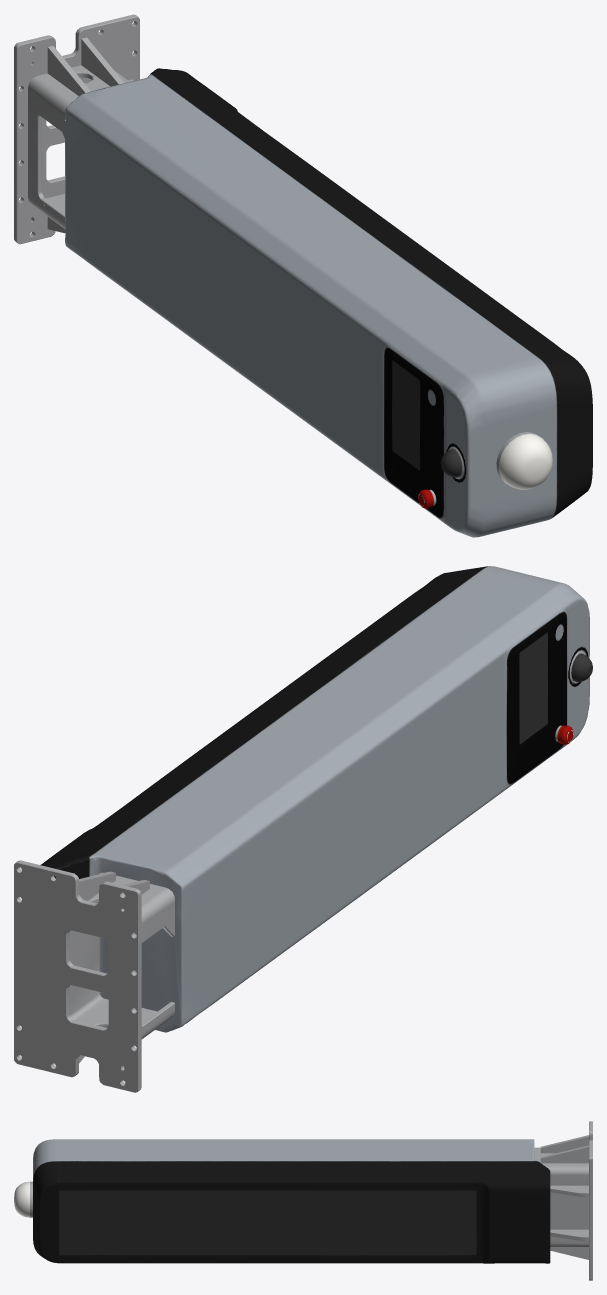
The model's file is column_base_link.glb.
3 views of the same model, one above another, from view 1: azimuth 30°, elevation 25°; view 2: azimuth 150°, elevation 25°; view 3: azimuth 270°, elevation 25° (orthographic). The views are drawn at different scales.
Visible parts, largest first — view 1: column_base_link; view 2: column_base_link; view 3: column_base_link.
Boxes of the visible parts, x1=… form: column_base_link: x1=14, y1=14, x2=592, y2=537; column_base_link: x1=14, y1=566, x2=592, y2=1092; column_base_link: x1=14, y1=1121, x2=592, y2=1280.
Size of the model in its own units: 0.2681 by 0.34 by 1.44.
Materials: 6 (1 with a texture image).
